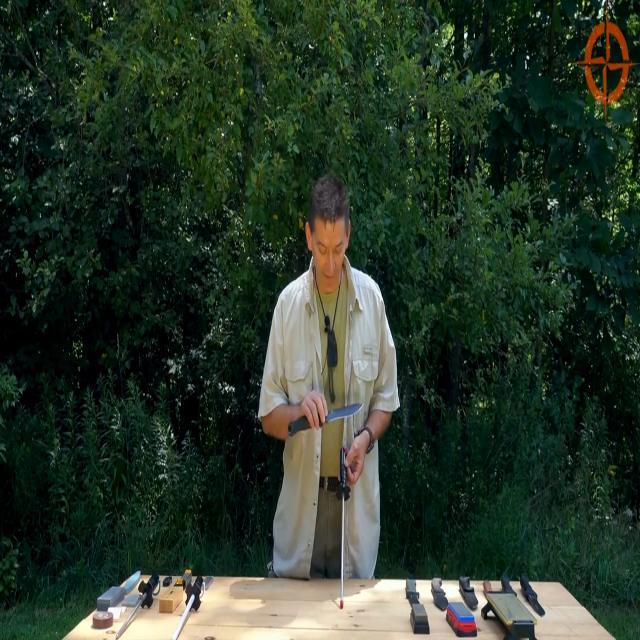knife: (288, 398, 366, 443), (519, 570, 551, 621), (461, 568, 481, 615), (432, 575, 448, 615)
